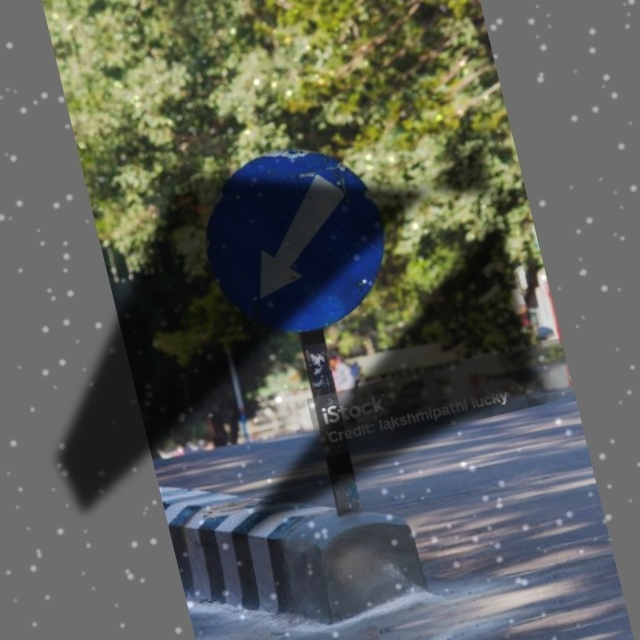Compulsory_Keep_Left: (182, 127, 417, 368)
